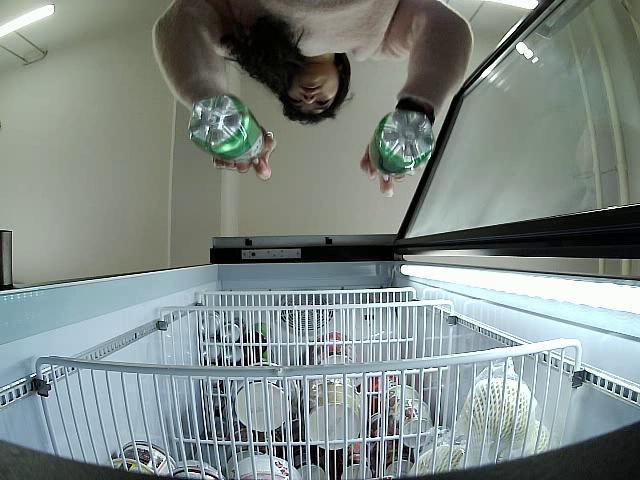18_trevi: (186, 92, 268, 166), (366, 107, 436, 176)
